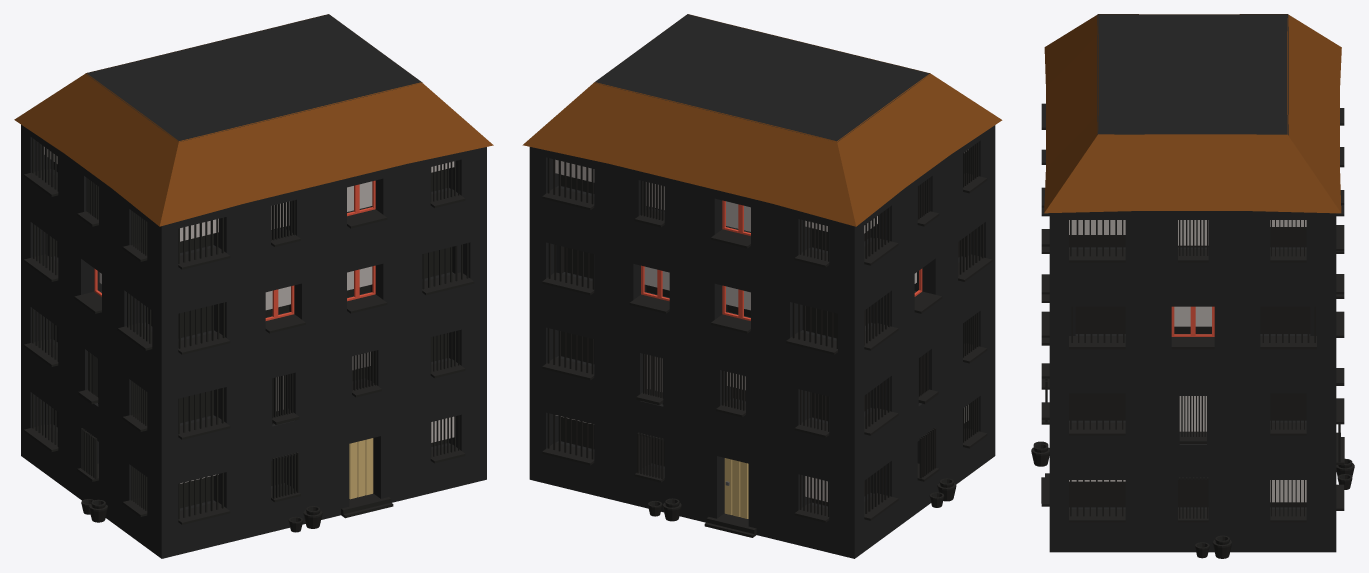
File: CasaProcedural_9.fbx
The picture shows the model from 3 angles, left to right: view 1: azimuth 30°, elevation 25°; view 2: azimuth 150°, elevation 25°; view 3: azimuth 270°, elevation 25°; orthographic projection.
Visible parts, largest first — view 1: Procedural_Building; view 2: Procedural_Building; view 3: Procedural_Building.
Boxes of the visible parts, x1,y1,x2,y2 form: Procedural_Building: (14, 14, 493, 558); Procedural_Building: (522, 14, 1002, 558); Procedural_Building: (1031, 14, 1354, 558).
Size of the model in its own units: 438 by 459 by 338.
